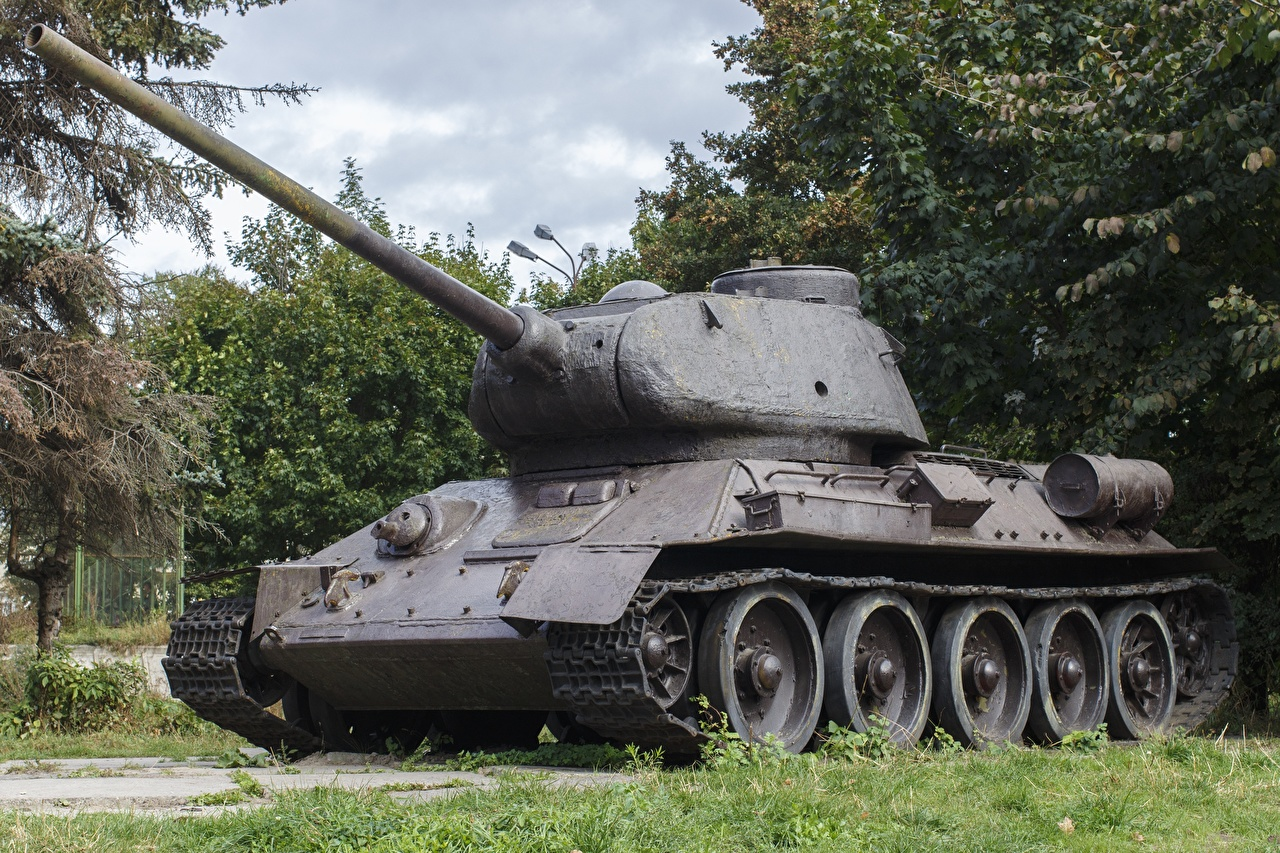tank: (22, 25, 1241, 741)
